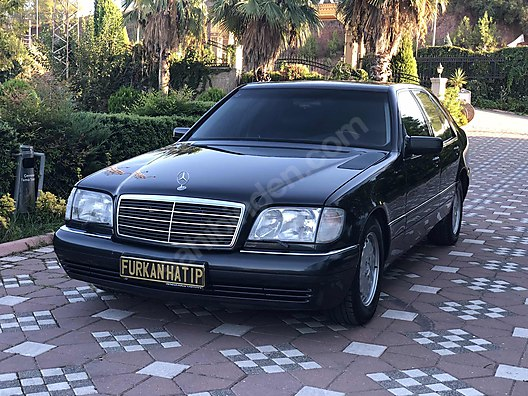m: (50, 77, 472, 329)
